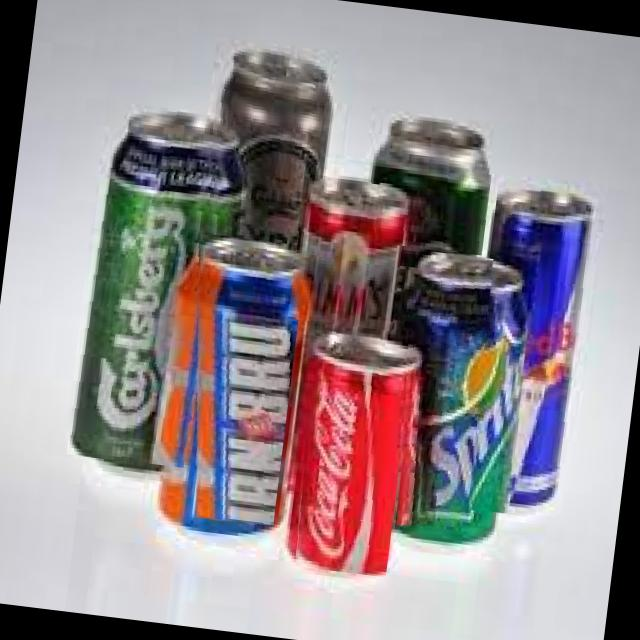Cans: (66, 99, 240, 470), (461, 168, 602, 522), (165, 234, 306, 526), (380, 249, 522, 536), (284, 320, 415, 577), (194, 34, 332, 245), (286, 163, 410, 331), (368, 103, 498, 255)
